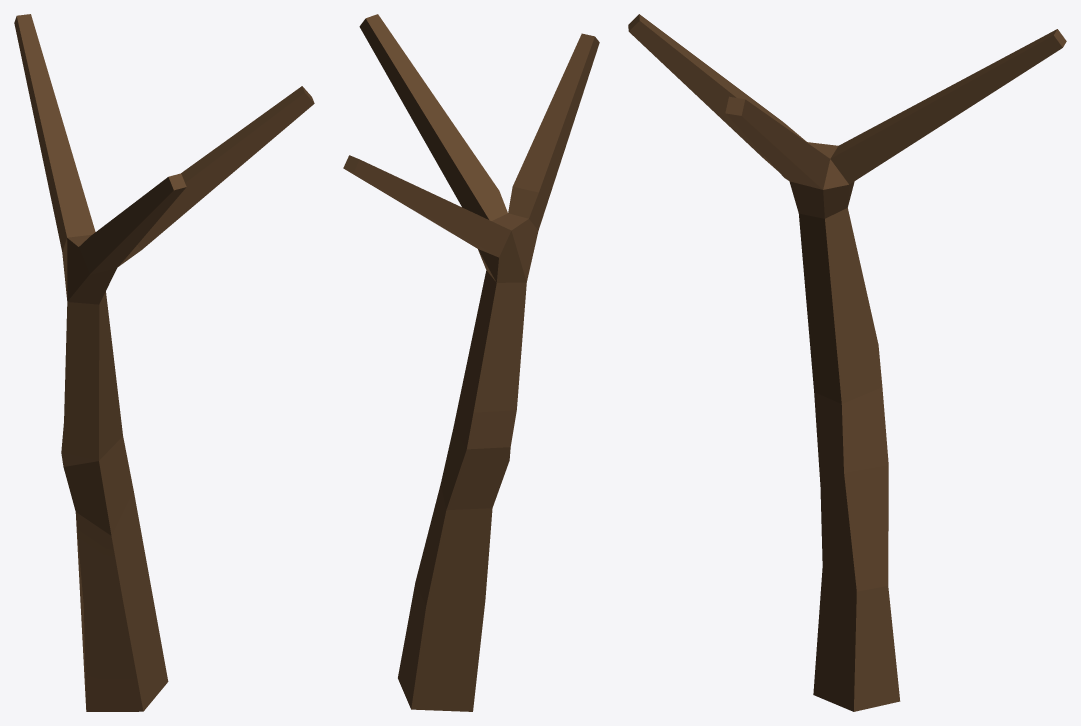
The model's file is PohonTanpaDaun2.fbx.
The picture shows the model from 3 angles, left to right: view 1: azimuth 30°, elevation 25°; view 2: azimuth 150°, elevation 25°; view 3: azimuth 270°, elevation 25°; orthographic projection. The views are drawn at different scales.
Parts seen in each view (by area): view 1: tree_1a; view 2: tree_1a; view 3: tree_1a.
Part boxes in pixels (x1,y1,x2,y2): tree_1a: (14, 14, 314, 711); tree_1a: (343, 14, 599, 711); tree_1a: (628, 14, 1066, 711).
Bounding box in the file's own units: 152 × 438 × 260.
